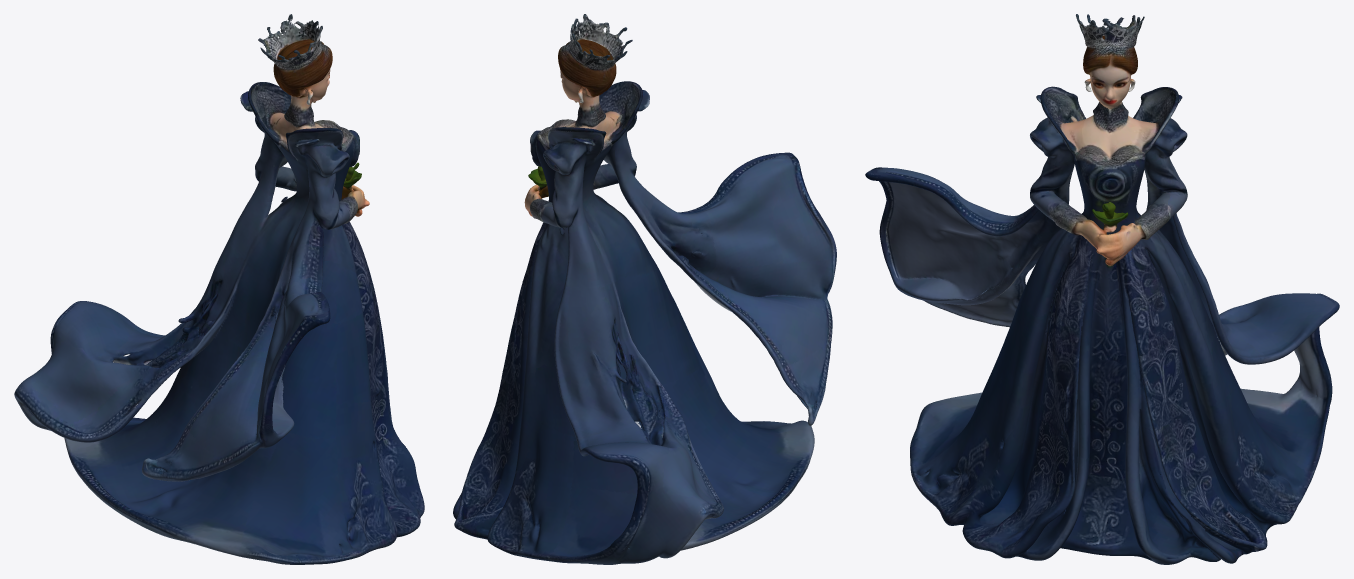
File: mesh.glb.tmp-opt.glb
3 views of the same model, side by side, from view 1: azimuth 30°, elevation 25°; view 2: azimuth 150°, elevation 25°; view 3: azimuth 270°, elevation 25° (orthographic). The views are drawn at different scales.
Parts seen in each view (by area): view 1: tripo_node_6b8ac64d-0009-45ed-855e-085a4e29e2ab; view 2: tripo_node_6b8ac64d-0009-45ed-855e-085a4e29e2ab; view 3: tripo_node_6b8ac64d-0009-45ed-855e-085a4e29e2ab.
Boxes of the visible parts, bbox=[...] form: tripo_node_6b8ac64d-0009-45ed-855e-085a4e29e2ab: bbox=[14, 14, 424, 564]; tripo_node_6b8ac64d-0009-45ed-855e-085a4e29e2ab: bbox=[453, 14, 836, 564]; tripo_node_6b8ac64d-0009-45ed-855e-085a4e29e2ab: bbox=[865, 14, 1339, 564].
Bounding box in the file's own units: 0.6193 × 1 × 0.8348.
1 material, 1 textured.
